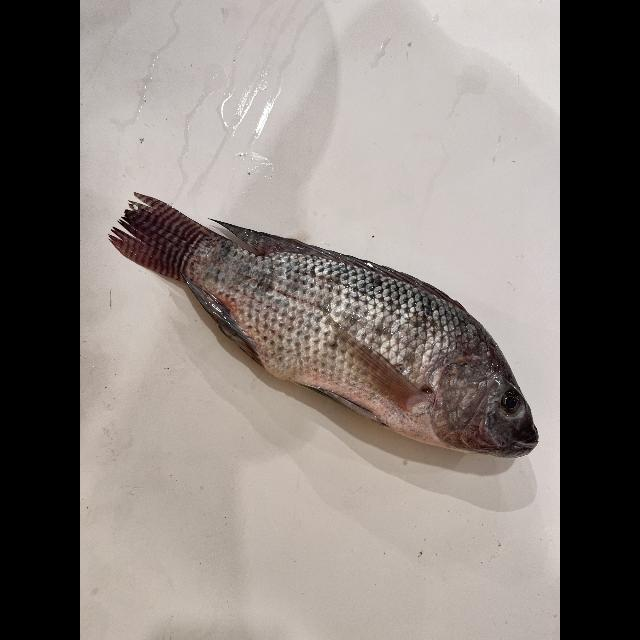Tilapia: (110, 191, 538, 465)
